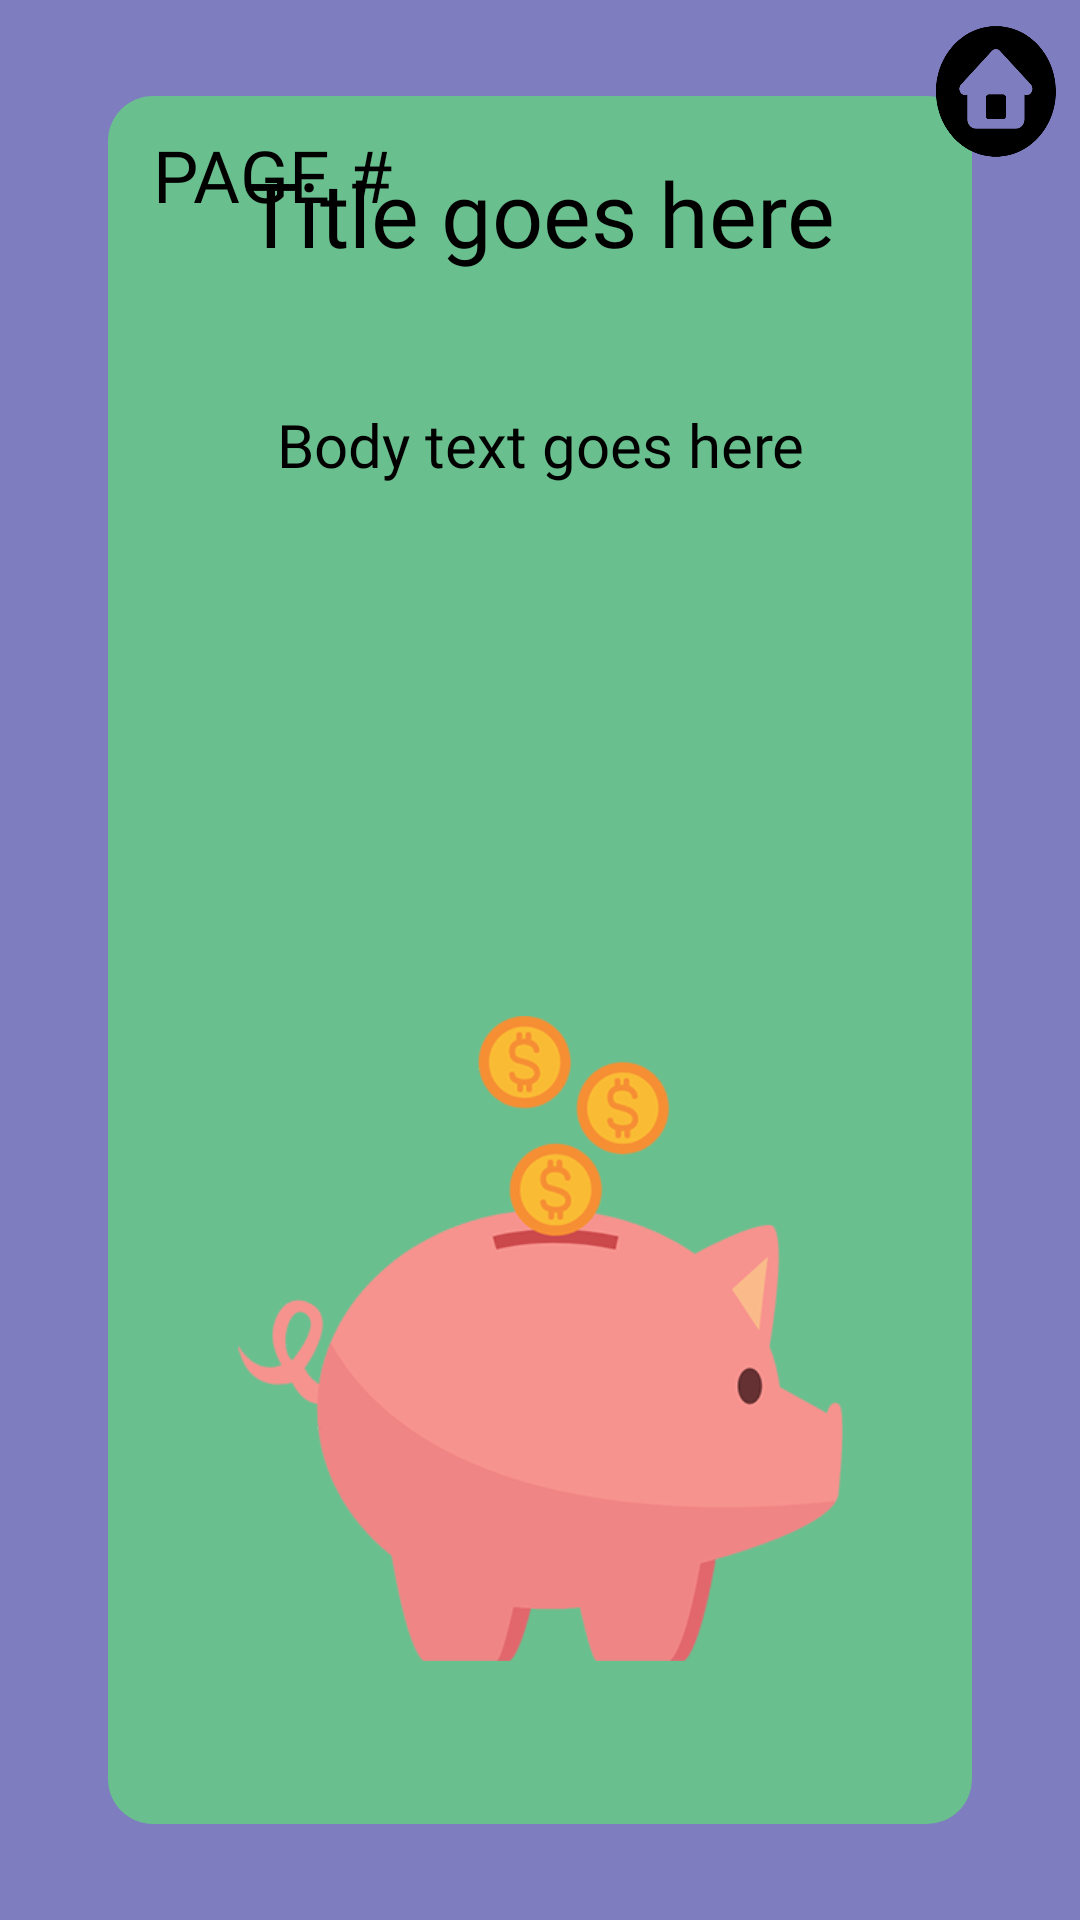

Icons on this 1080 × 1920 Android screen, each with the point to tap as [x,y]:
home: [996,91]
